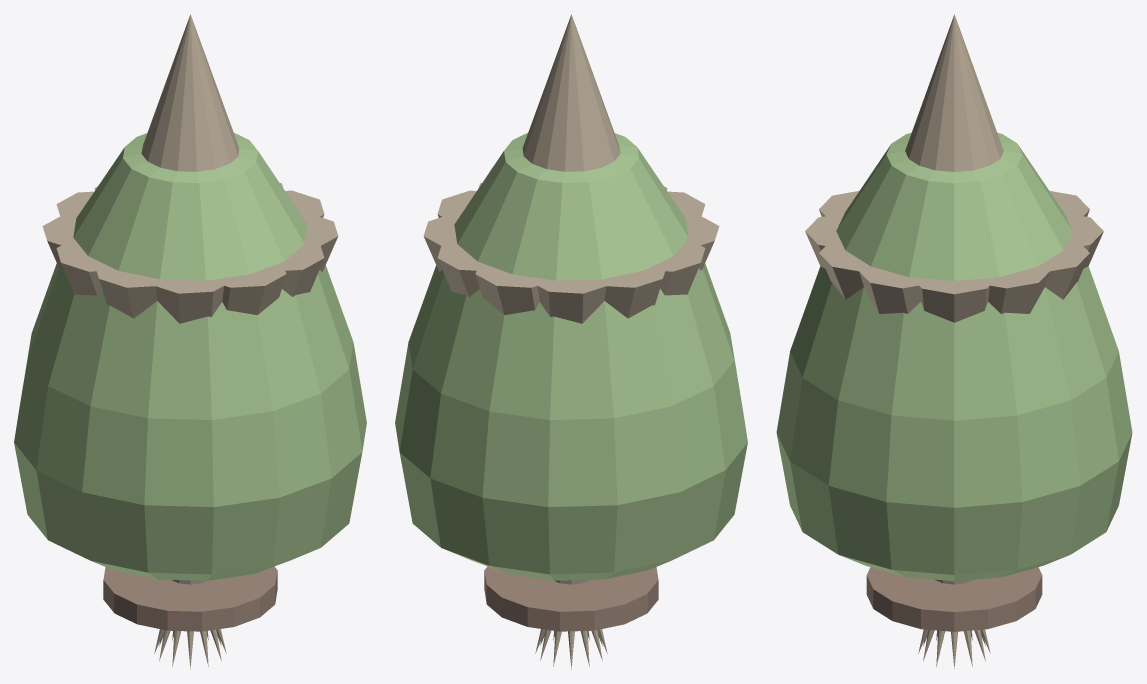
Rendered from willow.glb.
The picture shows the model from 3 angles, left to right: view 1: azimuth 30°, elevation 25°; view 2: azimuth 150°, elevation 25°; view 3: azimuth 270°, elevation 25°; orthographic projection.
Parts seen in each view (by area): view 1: MatureStage_Willow_Leaves, MatureStage_Willow, MatureStage_Willow_HangingTop, MatureStage_Willow_Base; view 2: MatureStage_Willow_Leaves, MatureStage_Willow, MatureStage_Willow_HangingTop, MatureStage_Willow_Base; view 3: MatureStage_Willow_Leaves, MatureStage_Willow, MatureStage_Willow_HangingTop, MatureStage_Willow_Base.
Boxes of the visible parts, x1,y1,x2,y2 form: MatureStage_Willow_Leaves: [14, 133, 366, 580]; MatureStage_Willow: [42, 183, 338, 669]; MatureStage_Willow_HangingTop: [141, 14, 239, 171]; MatureStage_Willow_Base: [103, 566, 277, 631]; MatureStage_Willow_Leaves: [395, 133, 747, 580]; MatureStage_Willow: [423, 183, 719, 669]; MatureStage_Willow_HangingTop: [522, 14, 620, 171]; MatureStage_Willow_Base: [484, 566, 658, 631]; MatureStage_Willow_Leaves: [776, 132, 1132, 581]; MatureStage_Willow: [805, 190, 1103, 669]; MatureStage_Willow_HangingTop: [905, 14, 1003, 171]; MatureStage_Willow_Base: [866, 567, 1042, 631].
Bounding box in the file's own units: 1.62 × 3.22 × 1.62.
